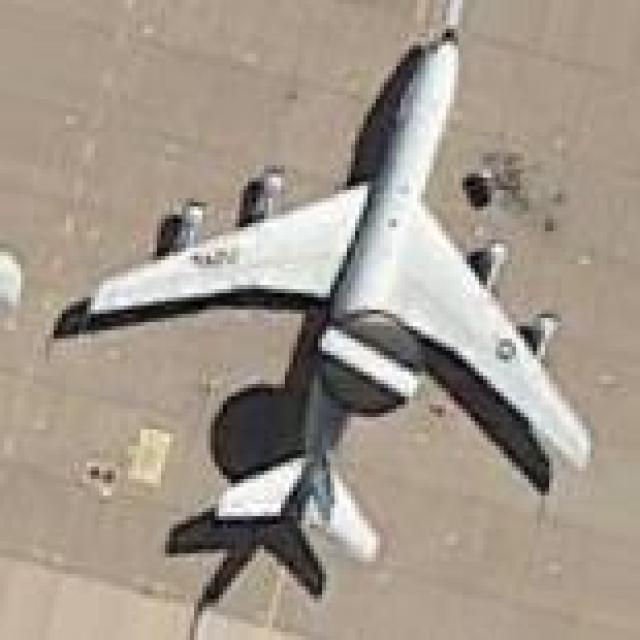E-3_TopDown: (41, 0, 595, 636)
